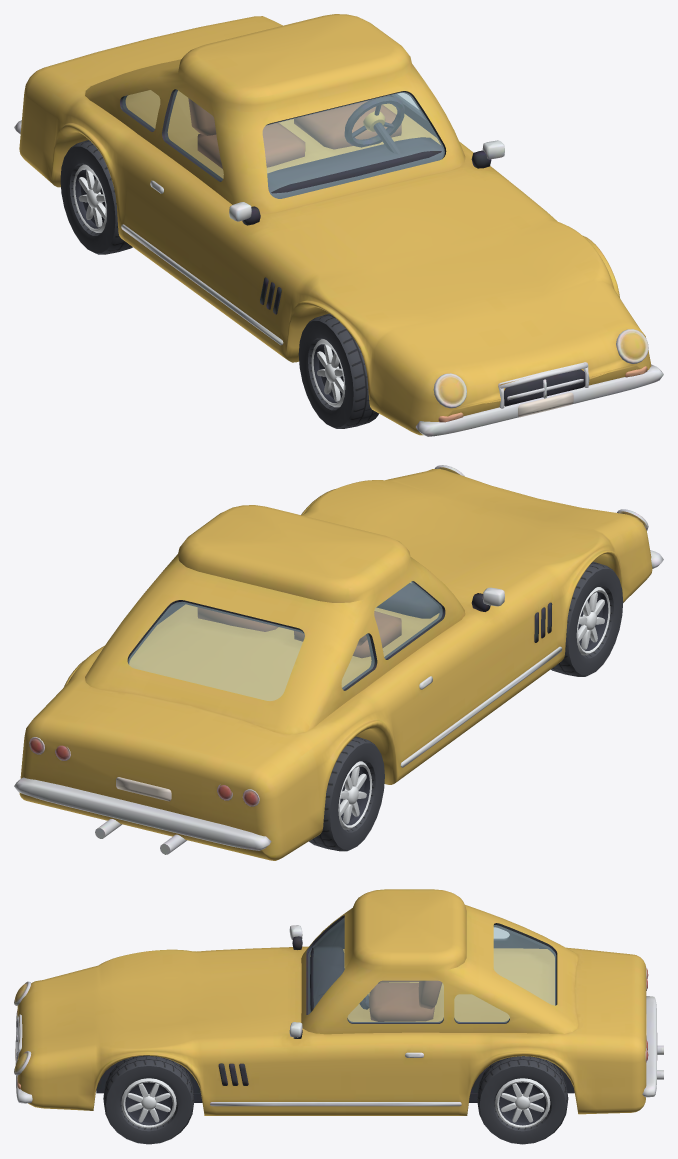
Rendered from 1960s-sports-car.glb.
The picture shows the model from 3 angles, top to bottom: view 1: azimuth 30°, elevation 25°; view 2: azimuth 150°, elevation 25°; view 3: azimuth 270°, elevation 25°; orthographic projection. The views are drawn at different scales.
Visible parts, largest first — view 1: 1960s-sports-car_body, 1960s-sports-car_windows, 1960s-sports-car_wheel_fr, 1960s-sports-car_wheel_rr; view 2: 1960s-sports-car_body, 1960s-sports-car_windows, 1960s-sports-car_wheel_rr, 1960s-sports-car_wheel_fr; view 3: 1960s-sports-car_body, 1960s-sports-car_windows, 1960s-sports-car_wheel_fl, 1960s-sports-car_wheel_rl.
Part boxes in pixels (box(x1,y1,x2,y2)): 1960s-sports-car_body: box(14, 14, 663, 436); 1960s-sports-car_windows: box(122, 89, 444, 198); 1960s-sports-car_wheel_fr: box(298, 313, 378, 428); 1960s-sports-car_wheel_rr: box(60, 140, 132, 254); 1960s-sports-car_body: box(14, 465, 663, 860); 1960s-sports-car_windows: box(128, 581, 442, 700); 1960s-sports-car_wheel_rr: box(309, 736, 384, 851); 1960s-sports-car_wheel_fr: box(551, 562, 623, 676); 1960s-sports-car_body: box(14, 889, 663, 1115); 1960s-sports-car_windows: box(308, 918, 555, 1022); 1960s-sports-car_wheel_fl: box(103, 1055, 194, 1144); 1960s-sports-car_wheel_rl: box(477, 1056, 568, 1144).
Size of the model in its own units: 1.73 by 1.3 by 4.42.
6 materials, 2 textured.
